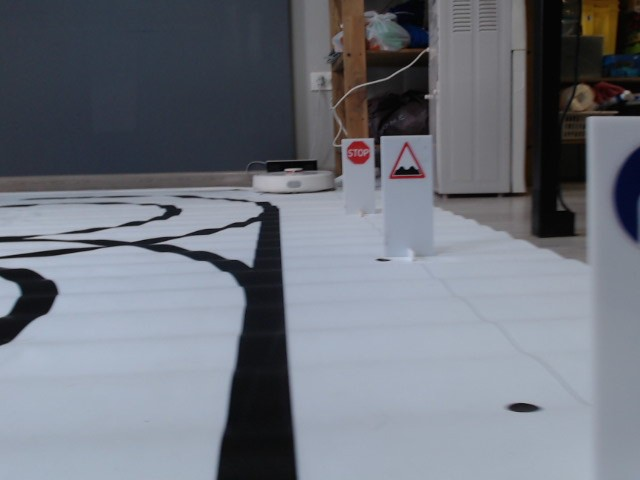Nerov: (388, 140, 427, 180)
Stop: (344, 140, 371, 164)
